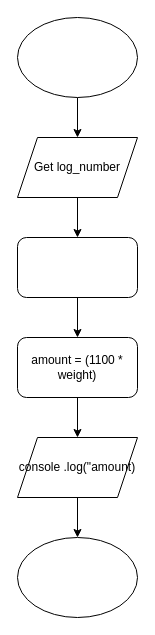
Some shapes in this 155 by 635 pixel diagram are drawn without their labels. Each missing label, with the box of its shape:
start: (16, 16, 138, 98)
weight = (log_number * 20): (16, 236, 138, 298)
